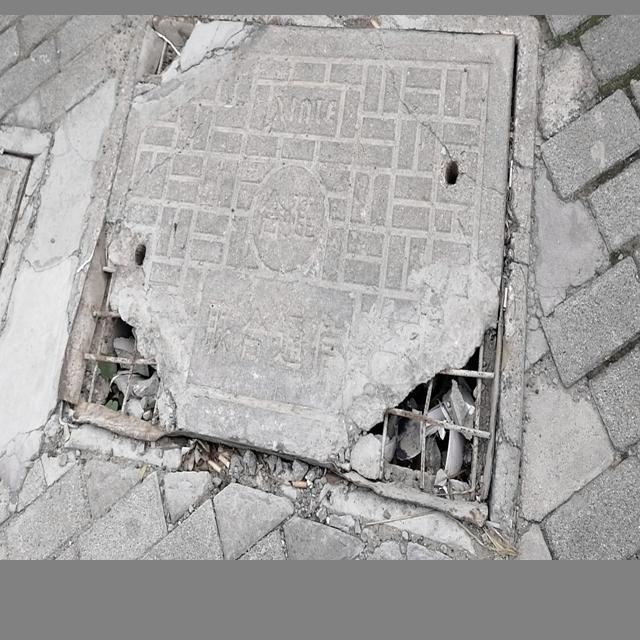broke: (74, 18, 513, 518)
